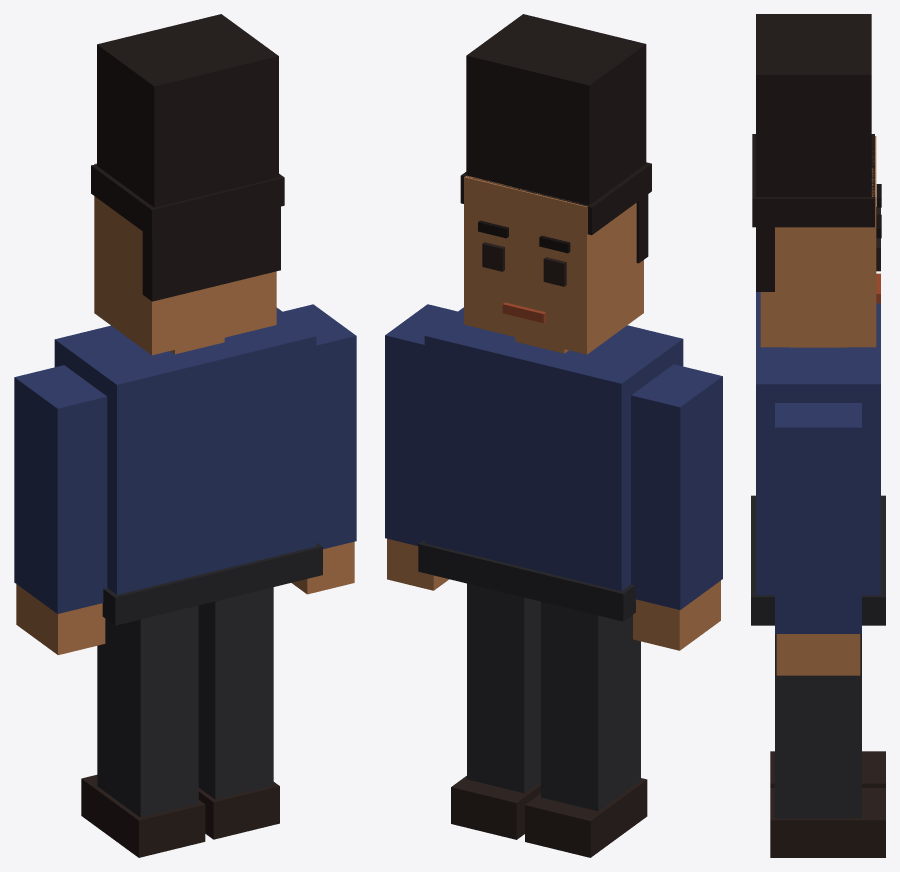
The model's file is high_principal.glb.
3 renders of one model, left to right at view 1: azimuth 30°, elevation 25°; view 2: azimuth 150°, elevation 25°; view 3: azimuth 270°, elevation 25°, orthographic.
Visible parts, largest first — view 1: Box9, Box18, Box3, Box1, Box5, Box12, Box7, Box20, Box10, Box19, Box2, Box4 (+2 smaller); view 2: Box9, Box18, Box12, Box3, Box1, Box5, Box7, Box10, Box2, Box6, Box4, Box19 (+2 smaller); view 3: Box18, Box7, Box9, Box12, Box5, Box6, Box19, Box8, Box10, Box20, Box2.
Part boxes in pixels (x1,y1,x2,y2): Box9: [54, 307, 316, 594]; Box18: [97, 14, 278, 207]; Box3: [14, 365, 107, 613]; Box1: [97, 605, 198, 817]; Box5: [198, 587, 273, 799]; Box12: [94, 163, 276, 355]; Box7: [283, 304, 356, 549]; Box20: [142, 206, 280, 301]; Box10: [102, 542, 322, 625]; Box19: [91, 164, 284, 237]; Box2: [81, 775, 205, 857]; Box4: [16, 584, 105, 655]; Box9: [424, 307, 683, 591]; Box18: [466, 14, 646, 205]; Box12: [464, 175, 643, 354]; Box3: [631, 364, 722, 609]; Box1: [541, 601, 640, 811]; Box5: [467, 583, 540, 793]; Box7: [385, 304, 457, 545]; Box10: [418, 539, 635, 621]; Box2: [525, 778, 647, 857]; Box6: [451, 776, 540, 839]; Box4: [633, 580, 720, 650]; Box19: [460, 162, 651, 235]; Box18: [756, 14, 871, 196]; Box7: [775, 403, 861, 633]; Box9: [756, 292, 880, 595]; Box12: [760, 136, 876, 347]; Box5: [775, 634, 861, 818]; Box6: [770, 788, 885, 857]; Box19: [752, 134, 874, 227]; Box8: [776, 634, 860, 675]; Box10: [751, 495, 885, 625]; Box20: [756, 227, 774, 291]; Box2: [770, 751, 885, 787].
Size of the model in its own units: 0.8165 by 2.02 by 0.3175.
